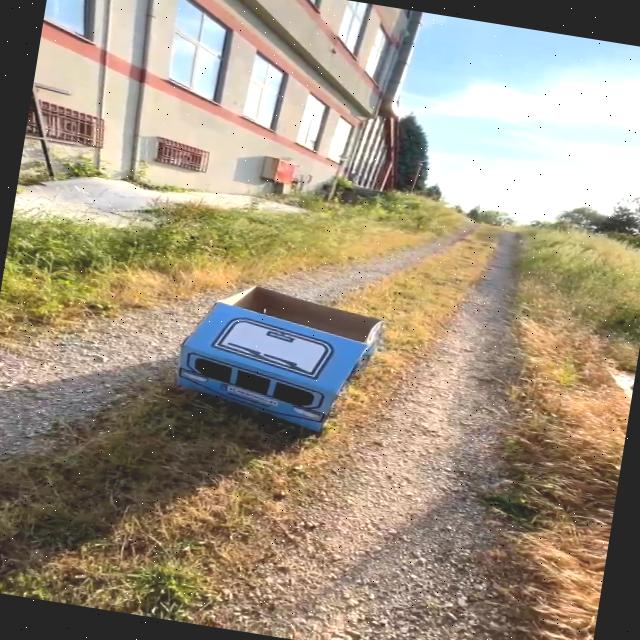blue_car: (117, 256, 446, 470)
